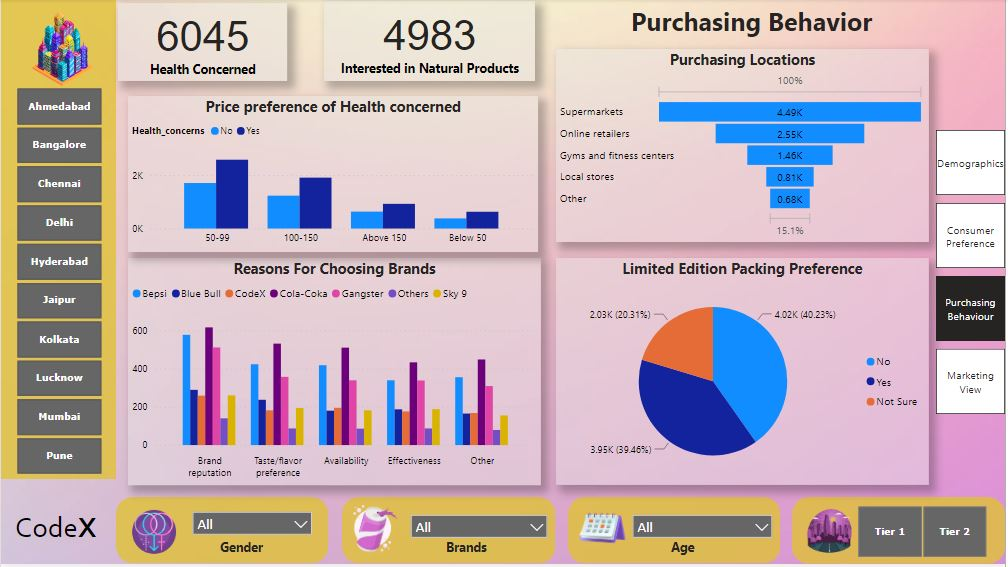

What the dashboard file says about the page in this screenshot:
{"tool":"powerbi","page":{"name":"Purchasing Behaviour","canvas":[1280,720],"ordinal":2},"visuals":[{"type":"shape","box":[1008.4,634.9,271.6,85.4],"z":0},{"type":"shape","box":[434.6,635.4,272.1,84.5],"z":1000},{"type":"shape","box":[722.6,635.4,270.8,84.5],"z":2000},{"type":"shape","box":[146.6,635.4,270.8,84.5],"z":3000},{"type":"shape","box":[0,0,146.9,611.9],"z":4000},{"type":"slicer","fields":{"Values":["dim_repondents.Gender"]},"box":[219.3,643.9,181.7,56.4],"z":5000},{"type":"slicer","fields":{"Values":["fact_survey_responses.Current_brands"]},"box":[512.3,653.3,194.3,48.6],"z":6000},{"type":"slicer","fields":{"Values":["dim_cities.Tier"]},"box":[1066.9,645.5,213.1,72.1],"z":7000},{"type":"slicer","title":".","fields":{"Values":["dim_repondents.Age"]},"box":[780.2,653.3,208.4,37.6],"z":8000},{"type":"card","fields":{"Values":["fact_survey_responses.Interested in Natural Products"]},"box":[412,3.1,269.5,101.8],"z":9000},{"type":"card","fields":{"Values":["fact_survey_responses.Health Concerned"]},"box":[148.8,4.7,216.2,98.7],"z":10000},{"type":"clusteredColumnChart","title":"Reasons For Choosing Brands","fields":{"Y":["CountNonNull(fact_survey_responses.Respondent_ID)"],"Series":["fact_survey_responses.Current_brands"],"Category":["fact_survey_responses.Reasons_for_choosing_brands"]},"box":[161.4,330.6,526.4,289.8],"z":12000},{"type":"slicer","fields":{"Values":["dim_cities.City"]},"box":[0,106.8,146.9,505.1],"z":13000},{"type":"image","box":[149.3,645.9,92.5,66],"z":14000},{"type":"image","box":[9.9,0,136.6,123.9],"z":15000},{"type":"image","box":[401.4,632.4,146.5,84.5],"z":16000},{"type":"image","box":[722.5,621.1,87.3,98.6],"z":17000},{"type":"image","box":[988.7,643.7,132.4,69],"z":18000},{"type":"textbox","box":[274.2,683.1,90.9,37.6],"z":20000},{"type":"textbox","box":[562.4,683.1,70.5,37.6],"z":21000},{"type":"textbox","box":[849.2,683.1,70.5,37.6],"z":22000},{"type":"textbox","box":[12.5,645.5,142.6,68.9],"z":23000},{"type":"textbox","box":[797.5,1.6,346.2,61.1],"z":24000},{"type":"funnel","title":"Purchasing Locations","fields":{"Y":["CountNonNull(fact_survey_responses.Respondent_ID)"],"Category":["fact_survey_responses.Purchase_location"]},"box":[707.2,63.1,475.3,245.7],"z":26000},{"type":"clusteredColumnChart","title":"Price preference of Health concerned","fields":{"Y":["CountNonNull(fact_survey_responses.Respondent_ID)"],"Category":["fact_survey_responses.Price_range"],"Series":["fact_survey_responses.Health_concerns"]},"box":[161.4,123.8,523.3,199],"z":27000},{"type":"pieChart","title":"Limited Edition Packing Preference","fields":{"Y":["CountNonNull(fact_survey_responses.Respondent_ID)"],"Category":["fact_survey_responses.Limited_edition_packaging"]},"box":[707.2,330.6,475.3,289.3],"z":28001},{"type":"pageNavigator","box":[1191.6,166.5,88.4,363.9],"z":28002}]}

Visuals, with their boxes in screenshot pixels (x1, y1, x2, y2), scaled from the page's 1280x720 canvas onto the 1008x567 screenshot:
shape: {"left": 794, "top": 500, "right": 1007, "bottom": 566}
shape: {"left": 342, "top": 500, "right": 557, "bottom": 566}
shape: {"left": 569, "top": 500, "right": 782, "bottom": 566}
shape: {"left": 115, "top": 500, "right": 329, "bottom": 566}
shape: {"left": 0, "top": 0, "right": 116, "bottom": 482}
slicer - dim_repondents.Gender: {"left": 173, "top": 507, "right": 316, "bottom": 551}
slicer - fact_survey_responses.Current_brands: {"left": 403, "top": 514, "right": 556, "bottom": 553}
slicer - dim_cities.Tier: {"left": 840, "top": 508, "right": 1007, "bottom": 565}
"." slicer: {"left": 614, "top": 514, "right": 779, "bottom": 544}
card - fact_survey_responses.Interested in Natural Products: {"left": 324, "top": 2, "right": 537, "bottom": 83}
card - fact_survey_responses.Health Concerned: {"left": 117, "top": 4, "right": 287, "bottom": 81}
"Reasons For Choosing Brands" clusteredColumnChart: {"left": 127, "top": 260, "right": 542, "bottom": 489}
slicer - dim_cities.City: {"left": 0, "top": 84, "right": 116, "bottom": 482}
image: {"left": 118, "top": 509, "right": 190, "bottom": 561}
image: {"left": 8, "top": 0, "right": 115, "bottom": 98}
image: {"left": 316, "top": 498, "right": 431, "bottom": 565}
image: {"left": 569, "top": 489, "right": 638, "bottom": 566}
image: {"left": 779, "top": 507, "right": 883, "bottom": 561}
textbox: {"left": 216, "top": 538, "right": 288, "bottom": 566}
textbox: {"left": 443, "top": 538, "right": 498, "bottom": 566}
textbox: {"left": 669, "top": 538, "right": 724, "bottom": 566}
textbox: {"left": 10, "top": 508, "right": 122, "bottom": 563}
textbox: {"left": 628, "top": 1, "right": 901, "bottom": 49}
"Purchasing Locations" funnel: {"left": 557, "top": 50, "right": 931, "bottom": 243}
"Price preference of Health concerned" clusteredColumnChart: {"left": 127, "top": 97, "right": 539, "bottom": 254}
"Limited Edition Packing Preference" pieChart: {"left": 557, "top": 260, "right": 931, "bottom": 488}
pageNavigator: {"left": 938, "top": 131, "right": 1007, "bottom": 418}
